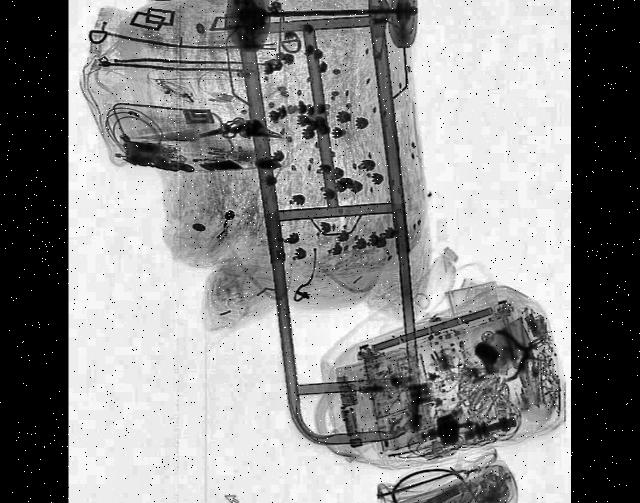Pliers: (498, 321, 542, 382)
